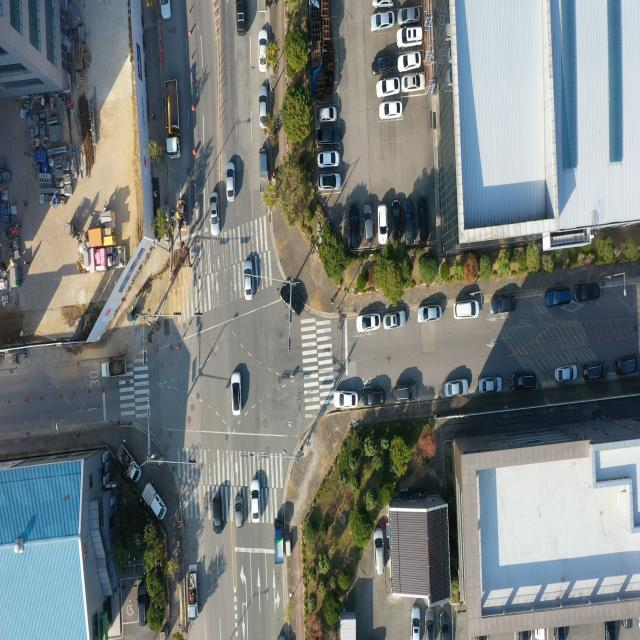car: (616, 354, 640, 376), (232, 369, 243, 416), (372, 10, 396, 31), (512, 372, 538, 391), (454, 301, 480, 320), (490, 298, 516, 316), (378, 78, 400, 99), (380, 101, 403, 121), (383, 311, 407, 330), (444, 380, 469, 398), (575, 284, 600, 302), (250, 478, 260, 522), (259, 84, 269, 128), (417, 306, 441, 324), (334, 390, 358, 408), (400, 27, 424, 45), (398, 53, 420, 72), (318, 128, 340, 147), (373, 58, 395, 77), (318, 174, 341, 192), (403, 74, 426, 92), (350, 206, 360, 247), (258, 32, 268, 72), (244, 260, 254, 300), (318, 150, 340, 168), (357, 314, 379, 332), (555, 364, 578, 381), (363, 389, 385, 406), (479, 378, 502, 394), (400, 6, 420, 24), (376, 529, 384, 574), (210, 195, 218, 238), (584, 362, 605, 378), (556, 370, 577, 386), (393, 386, 415, 401), (226, 162, 235, 198), (412, 608, 422, 640), (362, 205, 371, 240), (237, 0, 246, 33), (319, 106, 336, 123), (583, 368, 602, 383), (236, 496, 245, 527), (214, 498, 222, 531), (158, 0, 171, 20), (374, 0, 395, 8)
medium_truck: (163, 79, 180, 158)
small_truck: (142, 483, 167, 518), (118, 443, 138, 481), (186, 560, 198, 614), (274, 516, 286, 565), (102, 358, 126, 379), (259, 148, 269, 191)
